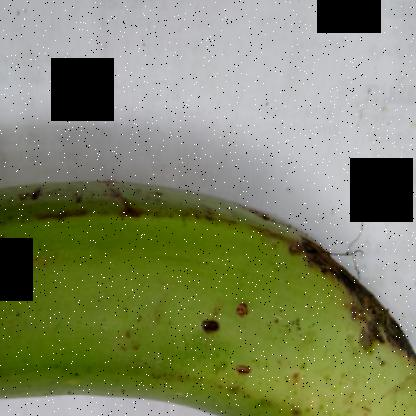unripe: (1, 155, 416, 415)
